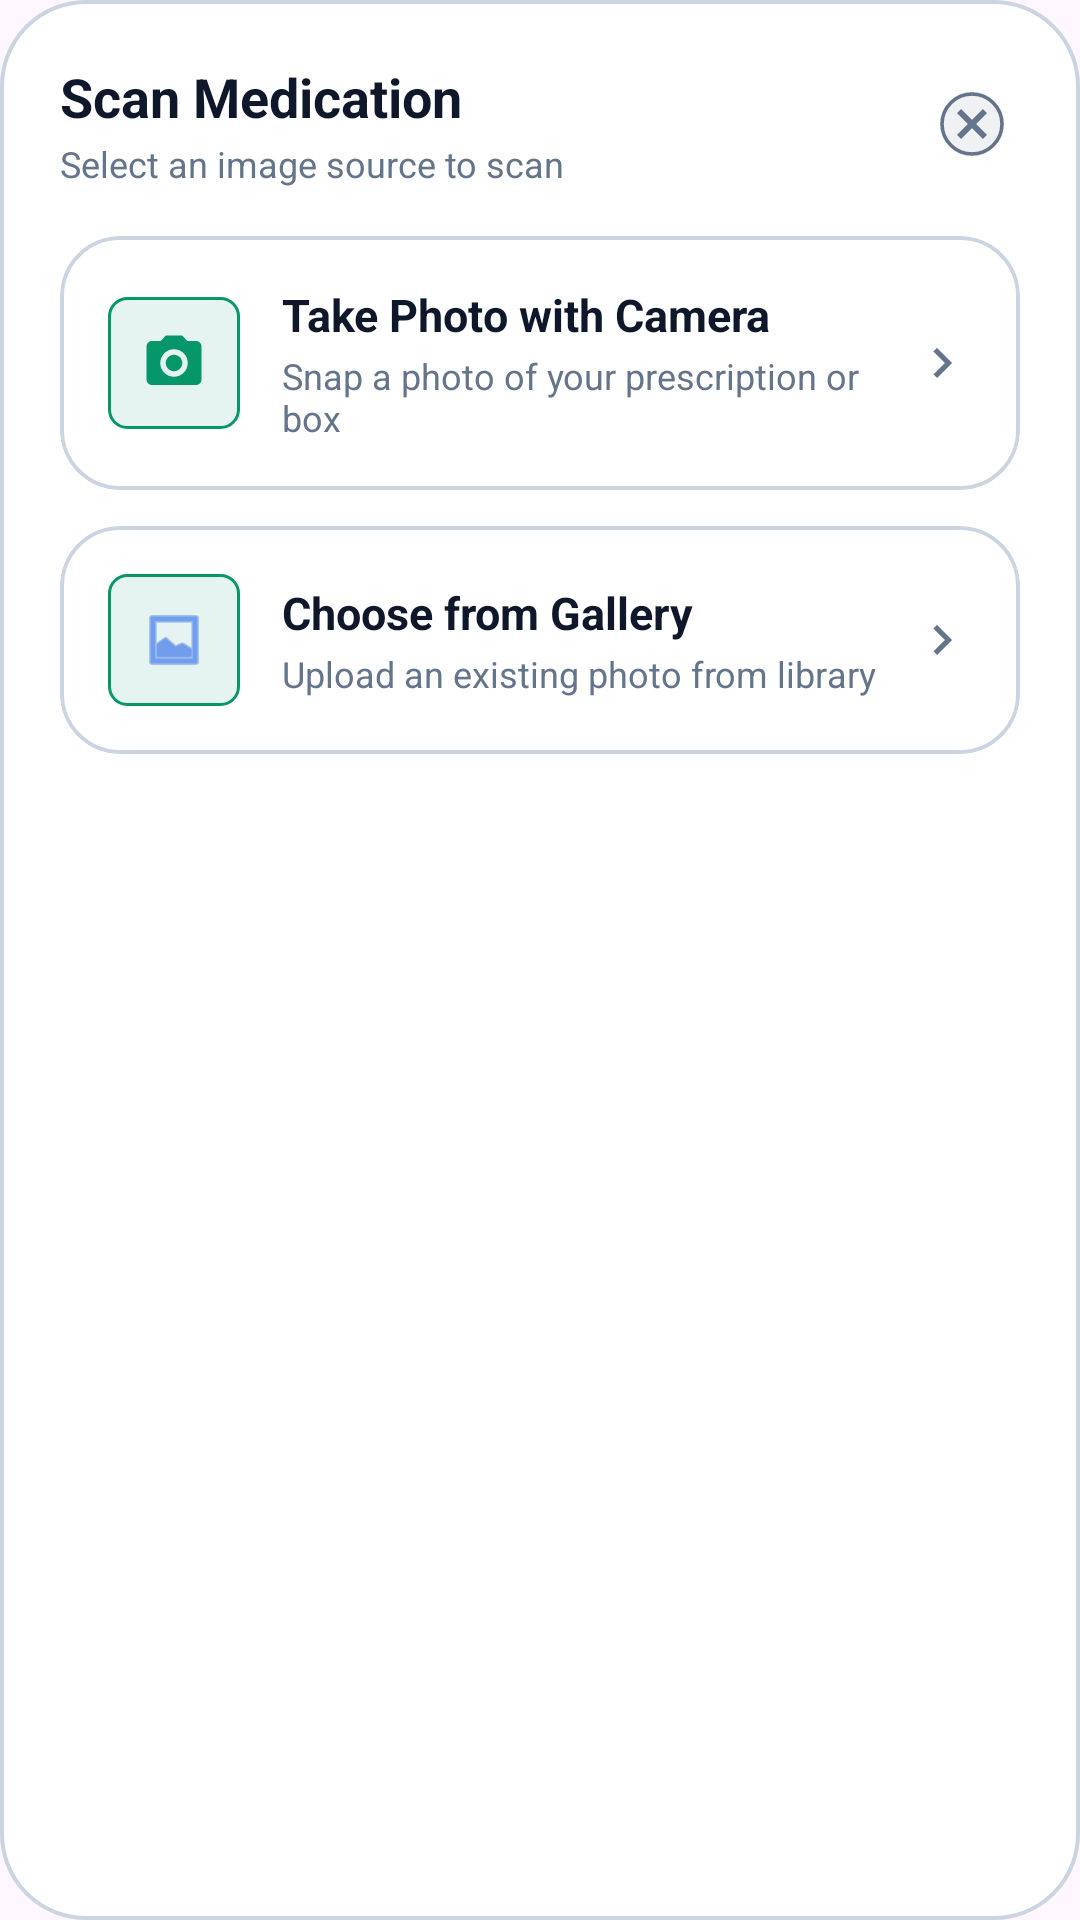

Where to tap for icons on this 1080*1920 app screen, as (x=x, y=y):
chevron right: (x=942, y=363), (x=942, y=640)
Close: (x=972, y=124)
